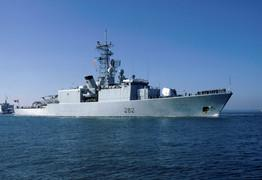warship: (12, 29, 236, 118)
